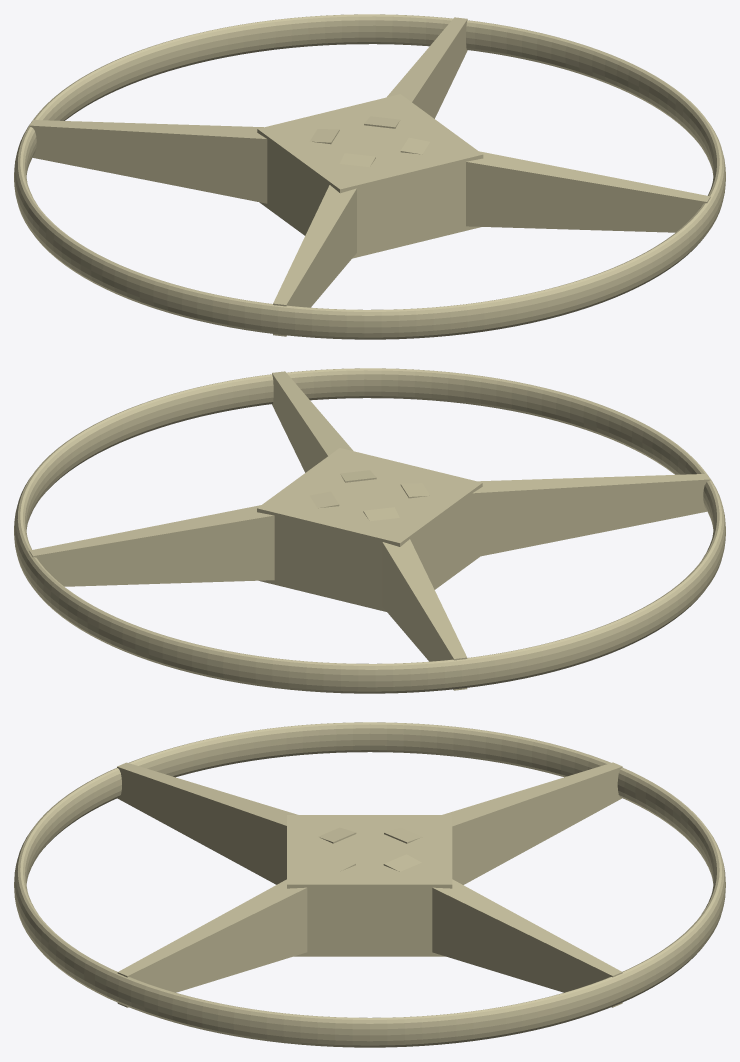
Rendered from Disco2.obj.
3 renders of one model, top to bottom at view 1: azimuth 30°, elevation 25°; view 2: azimuth 150°, elevation 25°; view 3: azimuth 270°, elevation 25°, orthographic.
Parts seen in each view (by area): view 1: Mesh.004_Mesh.106_Mesh.957_Mes, Mesh.005_Mesh.107_Mesh.955_Mes, Mesh.003_Mesh.111_Mesh.959_Mes, Mesh.001_Mesh.109_Mesh.958_Mes, Mesh.002_Mesh.110_Mesh.956_Mes, Mesh_Mesh.108_Mesh.960_Mes; view 2: Mesh.004_Mesh.106_Mesh.957_Mes, Mesh.005_Mesh.107_Mesh.955_Mes, Mesh_Mesh.108_Mesh.960_Mes, Mesh.002_Mesh.110_Mesh.956_Mes, Mesh.003_Mesh.111_Mesh.959_Mes, Mesh.001_Mesh.109_Mesh.958_Mes; view 3: Mesh.004_Mesh.106_Mesh.957_Mes, Mesh.005_Mesh.107_Mesh.955_Mes, Mesh_Mesh.108_Mesh.960_Mes, Mesh.001_Mesh.109_Mesh.958_Mes, Mesh.003_Mesh.111_Mesh.959_Mes, Mesh.002_Mesh.110_Mesh.956_Mes.
Boxes of the visible parts, <box> form: Mesh.004_Mesh.106_Mesh.957_Mes: <box>14,14,725,339</box>; Mesh.005_Mesh.107_Mesh.955_Mes: <box>257,94,483,258</box>; Mesh.003_Mesh.111_Mesh.959_Mes: <box>29,120,339,203</box>; Mesh.001_Mesh.109_Mesh.958_Mes: <box>400,137,710,232</box>; Mesh.002_Mesh.110_Mesh.956_Mes: <box>273,153,375,336</box>; Mesh_Mesh.108_Mesh.960_Mes: <box>364,17,467,128</box>; Mesh.004_Mesh.106_Mesh.957_Mes: <box>14,368,725,693</box>; Mesh.005_Mesh.107_Mesh.955_Mes: <box>257,448,482,611</box>; Mesh_Mesh.108_Mesh.960_Mes: <box>29,491,339,586</box>; Mesh.002_Mesh.110_Mesh.956_Mes: <box>400,474,710,557</box>; Mesh.003_Mesh.111_Mesh.959_Mes: <box>363,507,467,690</box>; Mesh.001_Mesh.109_Mesh.958_Mes: <box>272,371,376,482</box>; Mesh.004_Mesh.106_Mesh.957_Mes: <box>14,722,725,1047</box>; Mesh.005_Mesh.107_Mesh.955_Mes: <box>287,815,452,956</box>; Mesh_Mesh.108_Mesh.960_Mes: <box>383,854,622,1007</box>; Mesh.001_Mesh.109_Mesh.958_Mes: <box>117,854,355,1007</box>; Mesh.003_Mesh.111_Mesh.959_Mes: <box>384,762,622,884</box>; Mesh.002_Mesh.110_Mesh.956_Mes: <box>117,762,356,884</box>.
Bounding box in the file's own units: 4.31 × 0.4913 × 4.31.
